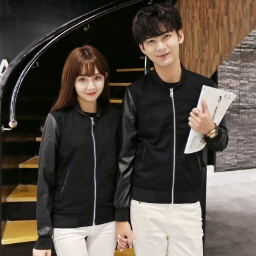face: (62, 46, 112, 114), (133, 7, 186, 69)
